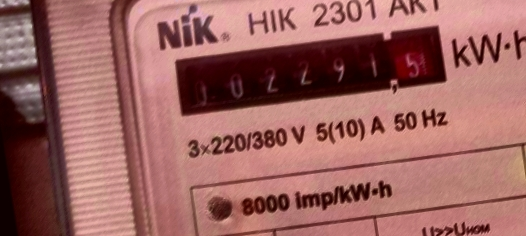0: (188, 74, 210, 106), (226, 69, 246, 100)
1: (363, 46, 382, 82)
2: (260, 63, 280, 94), (294, 56, 313, 87)
5: (401, 47, 422, 79)
9: (328, 52, 349, 84)
screen: (167, 12, 453, 130)
